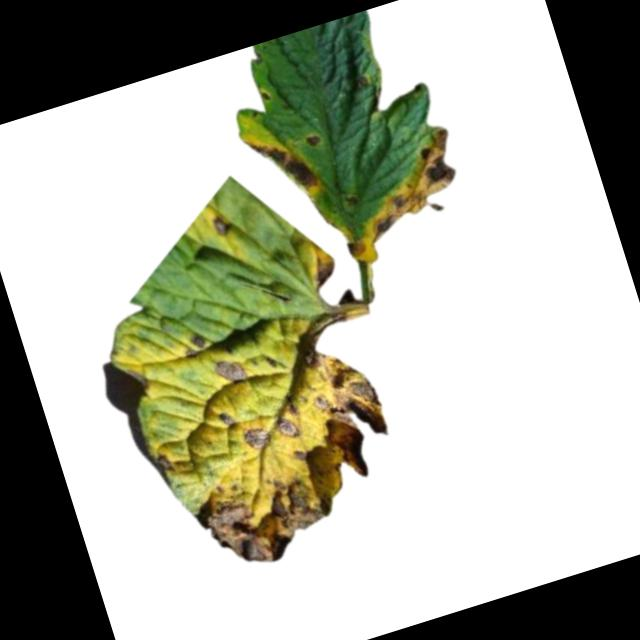Early_blight: (183, 455, 346, 582), (347, 125, 471, 241), (301, 348, 400, 485), (241, 121, 323, 208), (284, 305, 355, 368), (209, 352, 250, 390), (310, 249, 343, 291), (272, 410, 303, 445), (240, 421, 274, 452), (176, 331, 209, 362), (342, 232, 368, 259), (216, 409, 239, 434), (153, 449, 176, 474), (211, 211, 231, 235), (303, 127, 323, 150)
